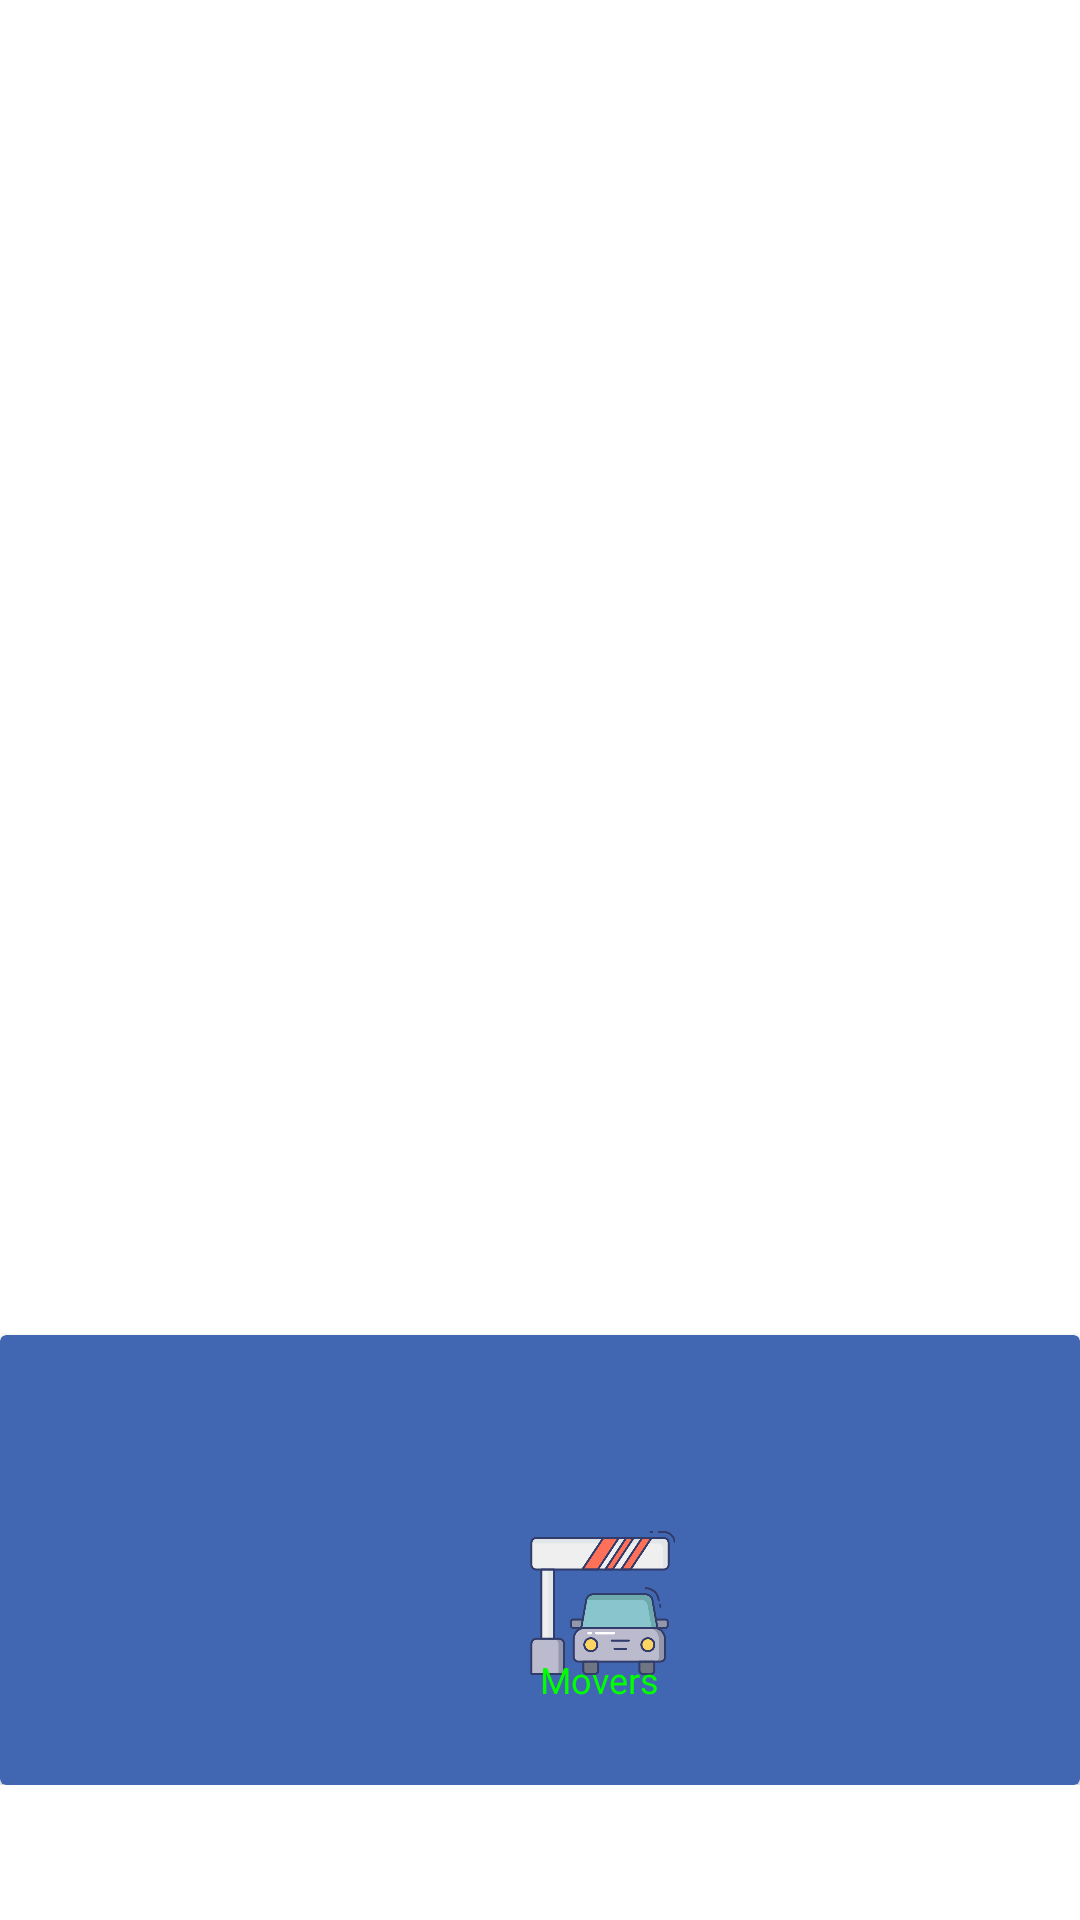

Screen size 1080x1920. Icon name, then its center in pixels as (x=x, y=y):
toll: (x=602, y=1605)
